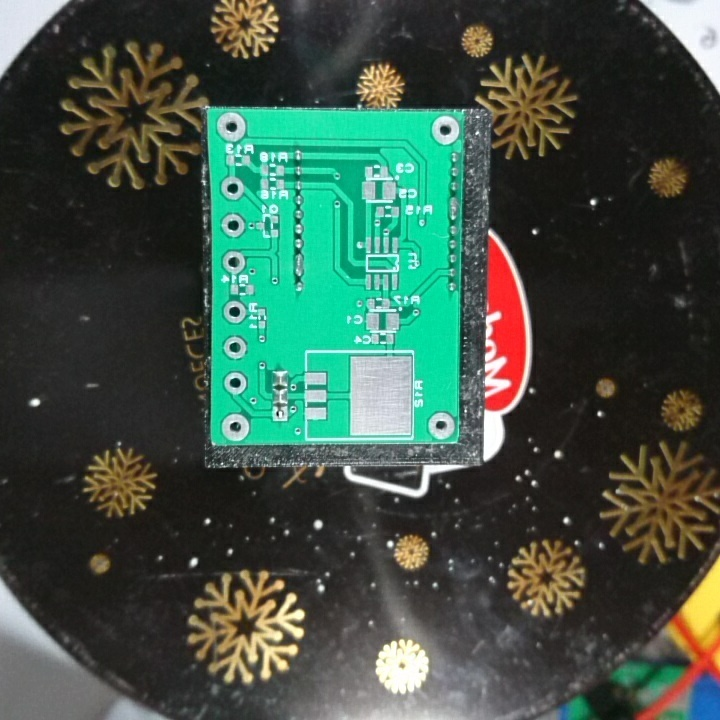F: (215, 110, 250, 144), (218, 411, 254, 443), (424, 410, 459, 440), (430, 114, 461, 146), (220, 332, 250, 364), (221, 296, 248, 329), (219, 212, 247, 240), (221, 366, 248, 395), (218, 249, 248, 274), (219, 173, 245, 201), (270, 403, 290, 423)
P: (290, 251, 310, 279), (446, 195, 462, 221)
